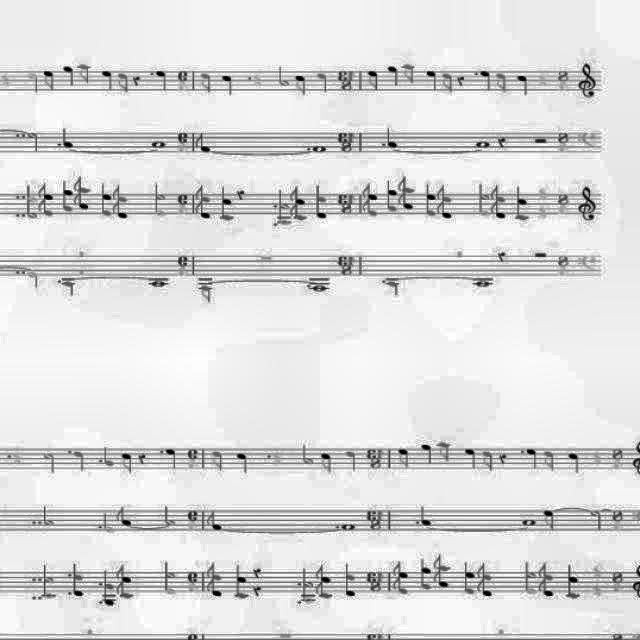Bass-clef: (580, 239, 606, 281), (576, 126, 600, 152), (635, 501, 640, 527), (639, 501, 640, 527)
Eighth-note: (197, 50, 215, 106), (364, 48, 382, 100), (42, 59, 58, 110), (112, 554, 140, 582), (491, 192, 512, 228), (319, 437, 336, 479), (314, 554, 336, 586), (78, 52, 92, 102), (198, 266, 212, 316), (362, 166, 380, 204), (472, 550, 496, 578), (122, 51, 134, 105), (358, 196, 378, 228), (36, 168, 56, 200), (71, 167, 93, 196), (438, 170, 454, 208), (438, 428, 454, 466), (490, 176, 508, 208), (110, 178, 134, 202), (202, 510, 226, 534), (537, 570, 555, 602), (407, 46, 418, 98), (544, 506, 564, 534), (496, 62, 508, 108), (444, 62, 458, 101), (197, 129, 210, 171), (194, 178, 213, 206), (431, 552, 453, 576), (210, 442, 223, 482), (478, 571, 494, 603), (122, 442, 136, 478), (483, 438, 495, 478), (192, 200, 212, 224), (390, 554, 410, 578), (396, 170, 416, 193), (398, 433, 410, 471), (118, 498, 130, 536), (545, 444, 559, 476), (292, 180, 308, 208), (314, 580, 334, 602), (118, 580, 138, 602), (538, 558, 556, 582), (38, 191, 52, 221), (294, 65, 306, 98), (76, 188, 90, 216), (204, 578, 220, 602), (396, 190, 412, 213), (434, 204, 454, 222), (433, 570, 451, 590), (292, 204, 308, 226), (206, 561, 222, 583), (394, 576, 410, 596), (112, 204, 128, 222)
Eighth-rest: (234, 178, 258, 210), (246, 556, 268, 580), (494, 242, 510, 270), (494, 128, 510, 156), (139, 446, 153, 476), (499, 446, 516, 470), (252, 574, 266, 600), (457, 70, 467, 100), (132, 68, 140, 100)
Full-note: (306, 274, 334, 298), (473, 128, 491, 164), (520, 500, 536, 540), (472, 270, 496, 294), (153, 266, 169, 302), (154, 128, 168, 164), (344, 514, 360, 540), (314, 136, 326, 160)
Full-rest: (246, 242, 282, 278), (263, 620, 297, 634), (264, 631, 295, 640)
Half-note: (152, 176, 174, 232), (40, 558, 60, 618), (472, 174, 492, 226), (163, 555, 180, 605), (294, 428, 314, 470), (37, 437, 55, 483), (26, 122, 46, 162), (274, 53, 292, 95), (590, 501, 608, 537), (303, 553, 313, 611), (40, 503, 60, 532), (524, 556, 536, 600), (158, 502, 174, 530), (26, 60, 36, 101), (27, 264, 37, 292)
Half-rest: (527, 109, 553, 159), (530, 247, 554, 265)
Quarter-note: (346, 431, 369, 482), (98, 170, 116, 234), (342, 557, 366, 605), (62, 120, 88, 163), (96, 54, 118, 102), (512, 174, 532, 226), (417, 422, 435, 478), (558, 561, 578, 607), (386, 40, 402, 96), (216, 174, 232, 226), (74, 552, 90, 604), (316, 187, 336, 226), (233, 436, 251, 479), (223, 56, 239, 104), (382, 175, 398, 223), (102, 429, 118, 476), (386, 115, 402, 161), (62, 50, 78, 94), (423, 175, 439, 219), (518, 56, 530, 114), (569, 437, 587, 475), (422, 492, 436, 540), (314, 61, 328, 108), (418, 553, 434, 591), (103, 560, 113, 618), (58, 170, 70, 218), (428, 57, 442, 93), (528, 431, 540, 473), (390, 270, 402, 310), (158, 59, 170, 97), (466, 435, 478, 473), (482, 56, 494, 92), (461, 562, 472, 600), (65, 269, 79, 297), (76, 444, 84, 488), (167, 433, 175, 475)
Treble-clef: (576, 40, 600, 120), (576, 176, 600, 224), (628, 408, 640, 490), (635, 547, 640, 609), (639, 547, 640, 609)
